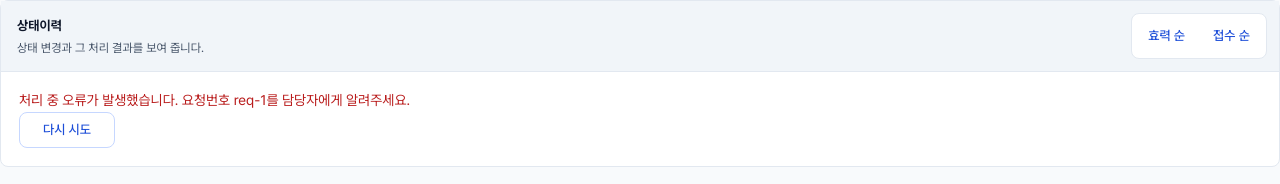
Test: CONT-W02 상태이력 표 › 처음 조회 중과 실패, 다시 시도를 구분한다
Check: the message shows "요청번호 req-1", box 19,92 -> 410,108
Check: the message does not show "내부 상세", box 19,92 -> 410,148
Click the button "다시 시도": [67, 130] box 19,112 -> 115,148
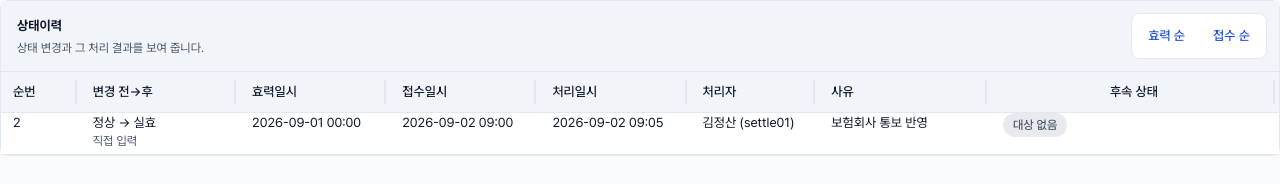
Check: the table named "상태 변경" is shown, box 1,72 -> 1279,155
